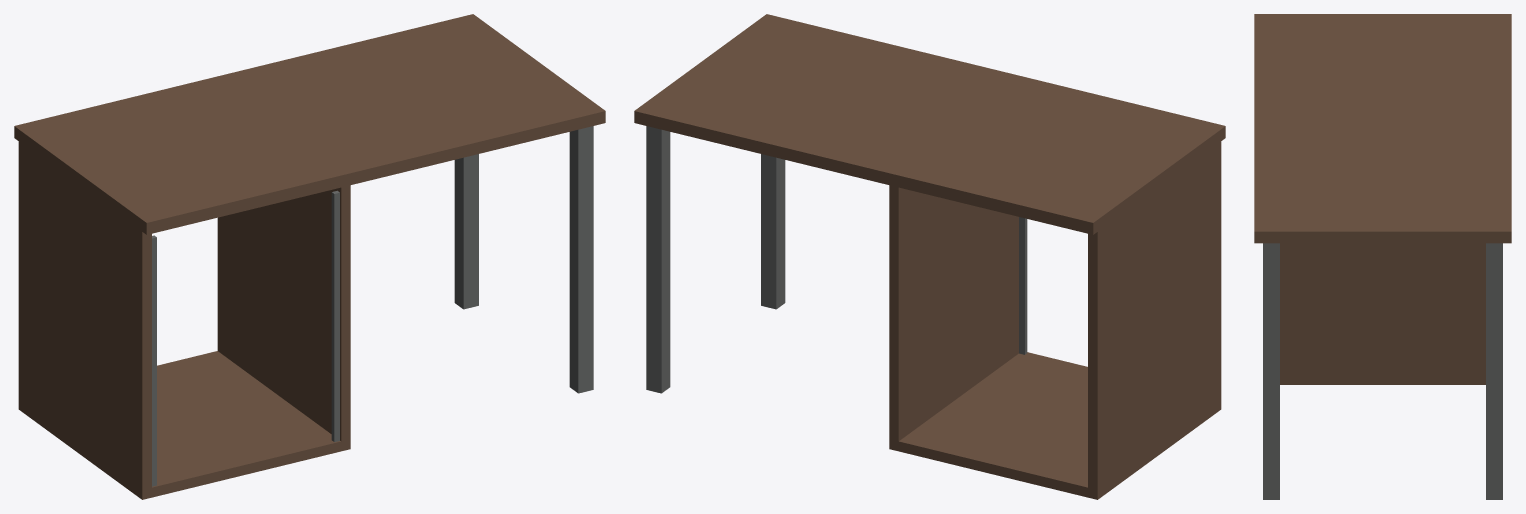
File: equipment-rack-table.glb
3 views of the same model, side by side, from view 1: azimuth 30°, elevation 25°; view 2: azimuth 150°, elevation 25°; view 3: azimuth 270°, elevation 25° (orthographic). The views are drawn at different scales.
Parts seen in each view (by area): view 1: wood, metal; view 2: wood, metal; view 3: wood, metal.
Boxes of the visible parts, bbox=[...] form: wood: bbox=[14, 14, 605, 499]; metal: bbox=[152, 126, 593, 486]; wood: bbox=[634, 14, 1225, 499]; metal: bbox=[646, 126, 1027, 393]; wood: bbox=[1254, 14, 1511, 384]; metal: bbox=[1263, 243, 1502, 499].
Size of the model in its own units: 1.2 by 0.7 by 0.6.
